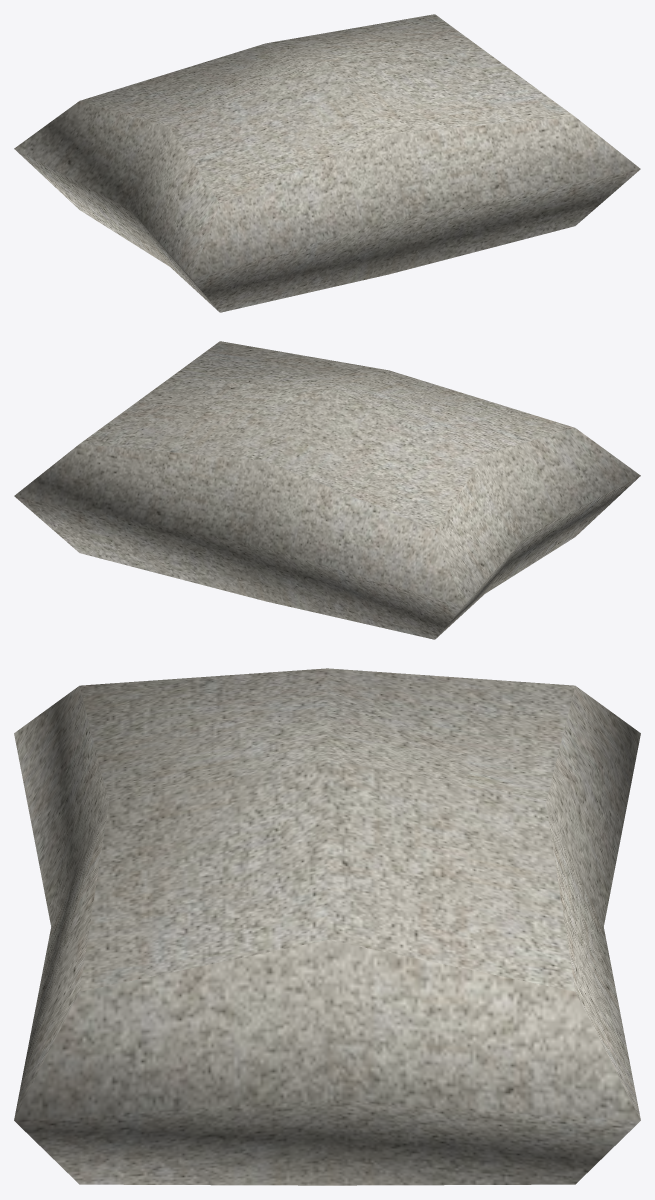
Rendered from Pillow_13.glb.
The picture shows the model from 3 angles, top to bottom: view 1: azimuth 30°, elevation 25°; view 2: azimuth 150°, elevation 25°; view 3: azimuth 270°, elevation 25°; orthographic projection. The views are drawn at different scales.
Visible parts, largest first — view 1: Pillow_13; view 2: Pillow_13; view 3: Pillow_13.
Part boxes in pixels (x1,y1,x2,y2): Pillow_13: (14,14,640,312); Pillow_13: (14,341,640,639); Pillow_13: (14,668,640,1185).
Size of the model in its own units: 0.8745 by 0.3539 by 0.5984.
1 material, 1 textured.
